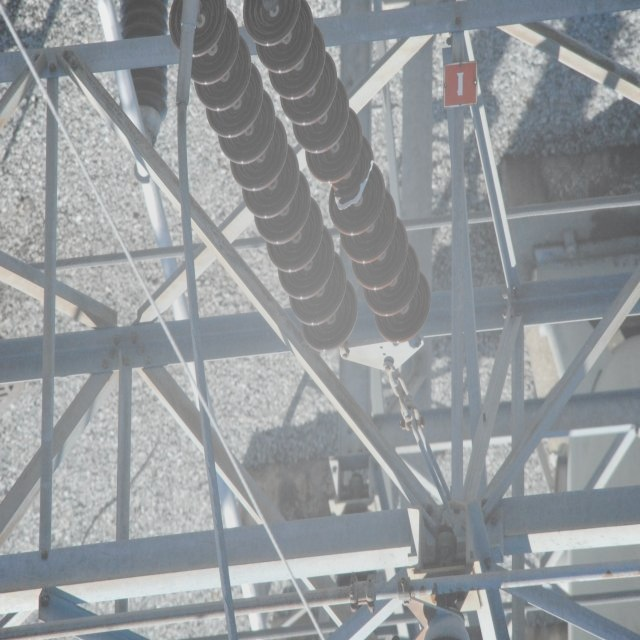broken: (331, 147, 377, 215)
insulator: (170, 0, 433, 352)
